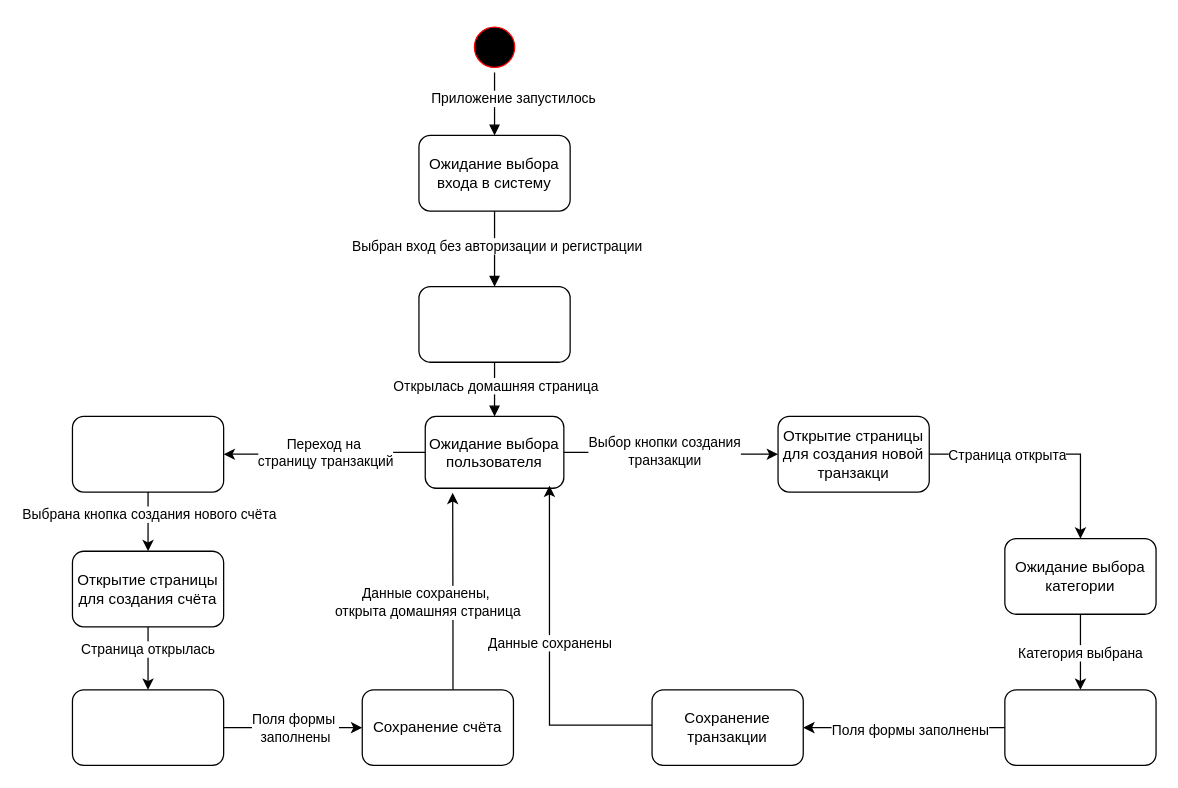
The diagram is 1178 pixels wide and 788 high, and some of its shapes have lost their labels. Each missing label, with the centre of its shape:
Вход без авторизации: the point at 494,323
Ожидание заполнения полей формы: the point at 1080,727
Ожидание заполнения формы: the point at 147,727
Откытие страницы транзакций: the point at 147,453
